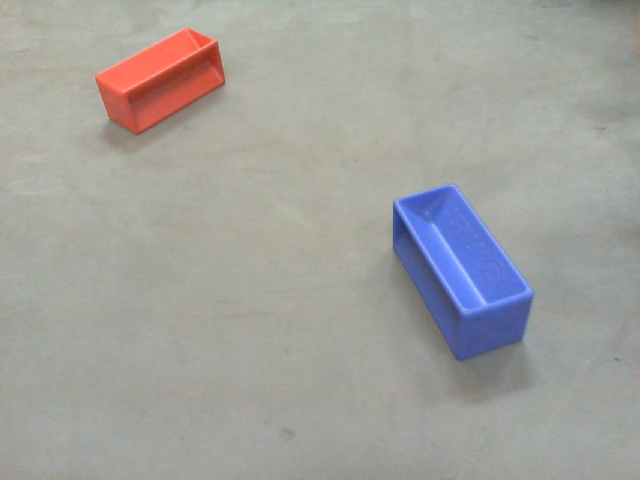BlueSample: (392, 174, 535, 363)
RedSample: (94, 22, 228, 140)
